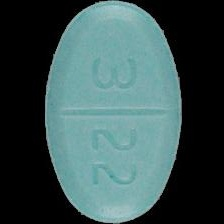68084-327: (0, 0, 224, 224)
